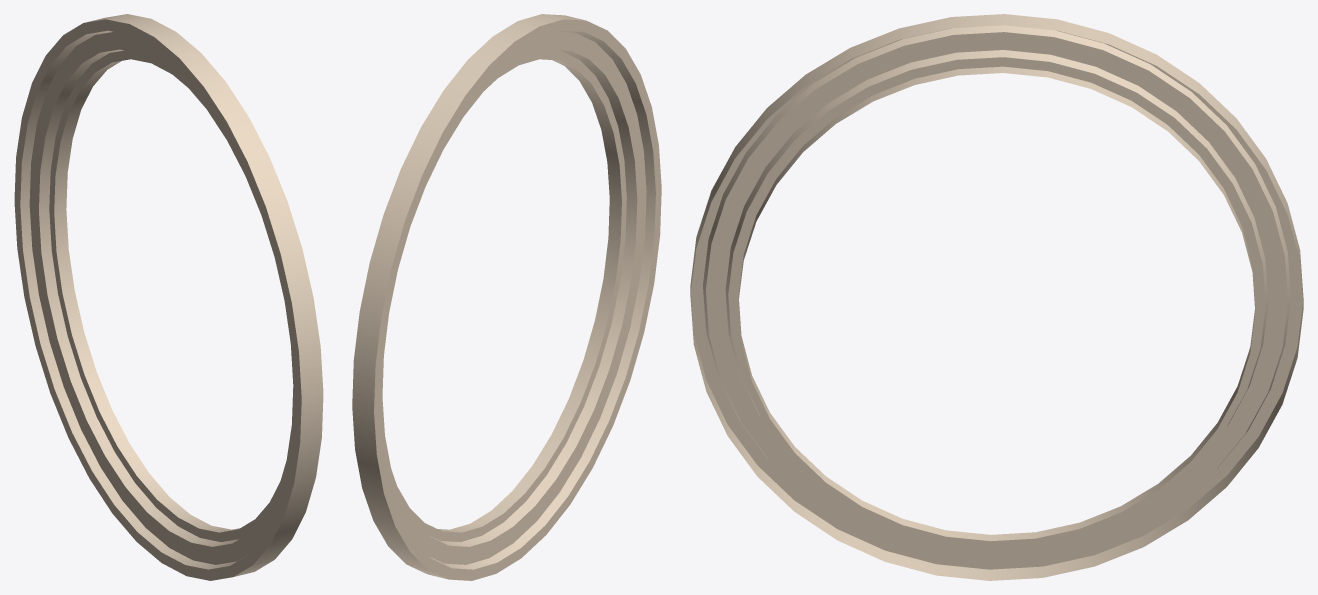
Rendered from BC_WindowDeco_A_01.fbx.
The picture shows the model from 3 angles, left to right: view 1: azimuth 30°, elevation 25°; view 2: azimuth 150°, elevation 25°; view 3: azimuth 270°, elevation 25°; orthographic projection. The views are drawn at different scales.
Parts seen in each view (by area): view 1: BC_WindowDeco_A_01; view 2: BC_WindowDeco_A_01; view 3: BC_WindowDeco_A_01.
Boxes of the visible parts, x1,y1,x2,y2 form: BC_WindowDeco_A_01: (14, 14, 323, 580); BC_WindowDeco_A_01: (352, 14, 661, 580); BC_WindowDeco_A_01: (690, 14, 1303, 580).
Bounding box in the file's own units: 52.01 × 883 × 883.
